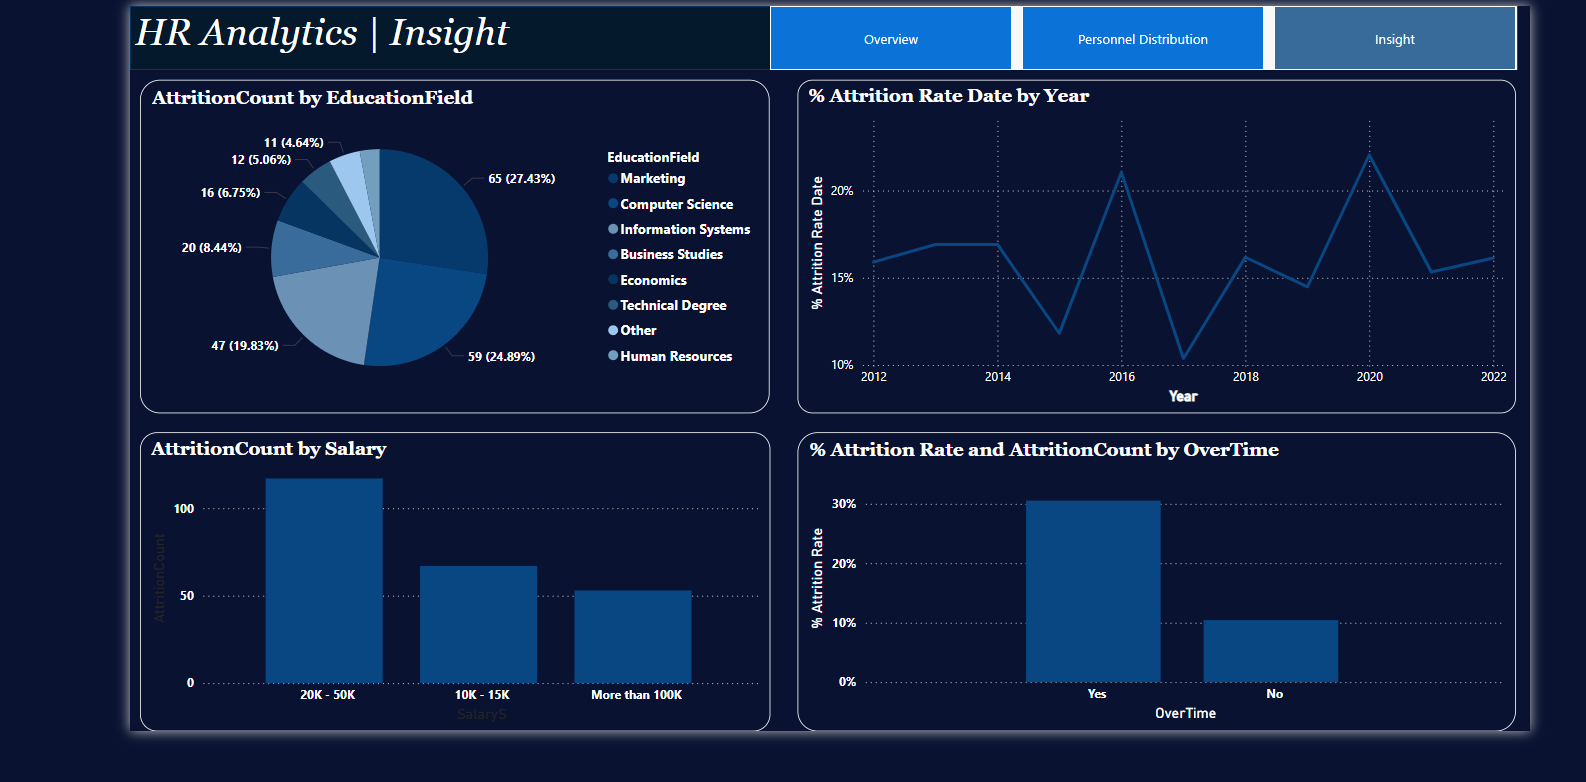

The dashboard page shown, as its layout file describes it:
{"tool":"powerbi","page":{"name":"Insight","canvas":[1400,725],"ordinal":2},"visuals":[{"type":"shape","box":[0,0,1280,64],"z":2000},{"type":"textbox","box":[0,0,656.1,63.9],"z":3000},{"type":"pageNavigator","box":[640,0,746.9,64.4],"z":4000},{"type":"pieChart","fields":{"Category":["DimEmployee.EducationField"],"Y":["Sum(DimEmployee.AttritionCount)"]},"box":[10.2,73.8,629.5,333.2],"z":4001},{"type":"columnChart","fields":{"Category":["DimEmployee.OverTime"],"Y":["_Measures.% Attrition Rate"]},"box":[667.7,426.1,718.6,298.9],"z":4003},{"type":"lineChart","fields":{"Y":["_Measures.% Attrition Rate Date"],"Category":["DimDate.Date.Variation.Date Hierarchy.Year","DimDate.Date.Variation.Date Hierarchy.Quarter","DimDate.Date.Variation.Date Hierarchy.Month","DimDate.Date.Variation.Date Hierarchy.Day"]},"box":[667.7,73.8,718.6,333.2],"z":4004},{"type":"clusteredColumnChart","title":"AttritionCount by Salary","fields":{"Category":["DimEmployee.SalaryS"],"Y":["Sum(DimEmployee.AttritionCount)"]},"box":[10,426,630,299],"z":4005}]}

Visuals, with their boxes on the page's 1400x725 design canvas (x1, y1, x2, y2). These are canvas units, not pixel positions in the 1586x782 screenshot, which may show the page scaled, cropped or inside an application window:
shape: [0, 0, 1280, 64]
textbox: [0, 0, 656, 64]
pageNavigator: [640, 0, 1387, 64]
pieChart - DimEmployee.EducationField x Sum(DimEmployee.AttritionCount): [10, 74, 640, 407]
columnChart - DimEmployee.OverTime x _Measures.% Attrition Rate: [668, 426, 1386, 725]
lineChart - _Measures.% Attrition Rate Date x DimDate.Date.Variation.Date Hierarchy.Year: [668, 74, 1386, 407]
"AttritionCount by Salary" clusteredColumnChart: [10, 426, 640, 725]
